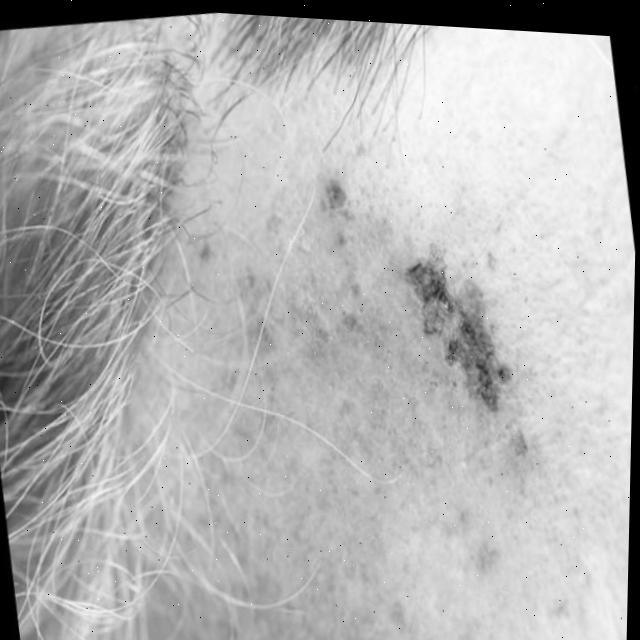Shingles: (399, 256, 505, 418)
